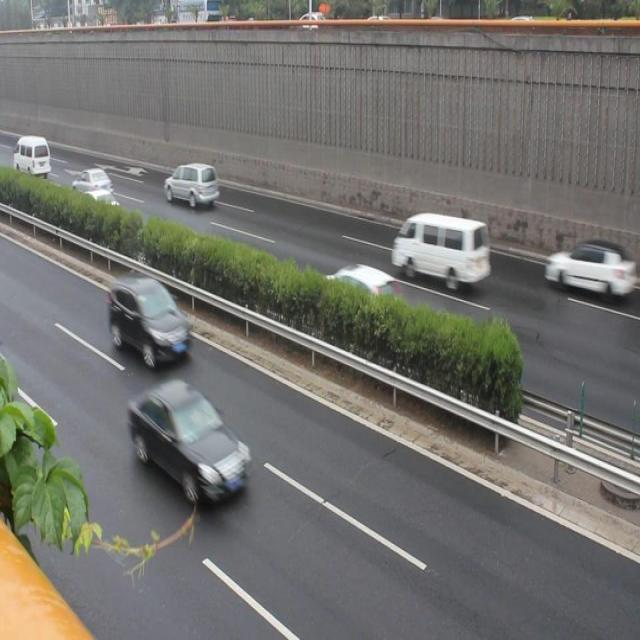car: (122, 379, 253, 506), (106, 271, 190, 369), (542, 238, 640, 307), (322, 251, 406, 316), (82, 186, 124, 226)
truck: (392, 210, 487, 286), (159, 154, 218, 211)
